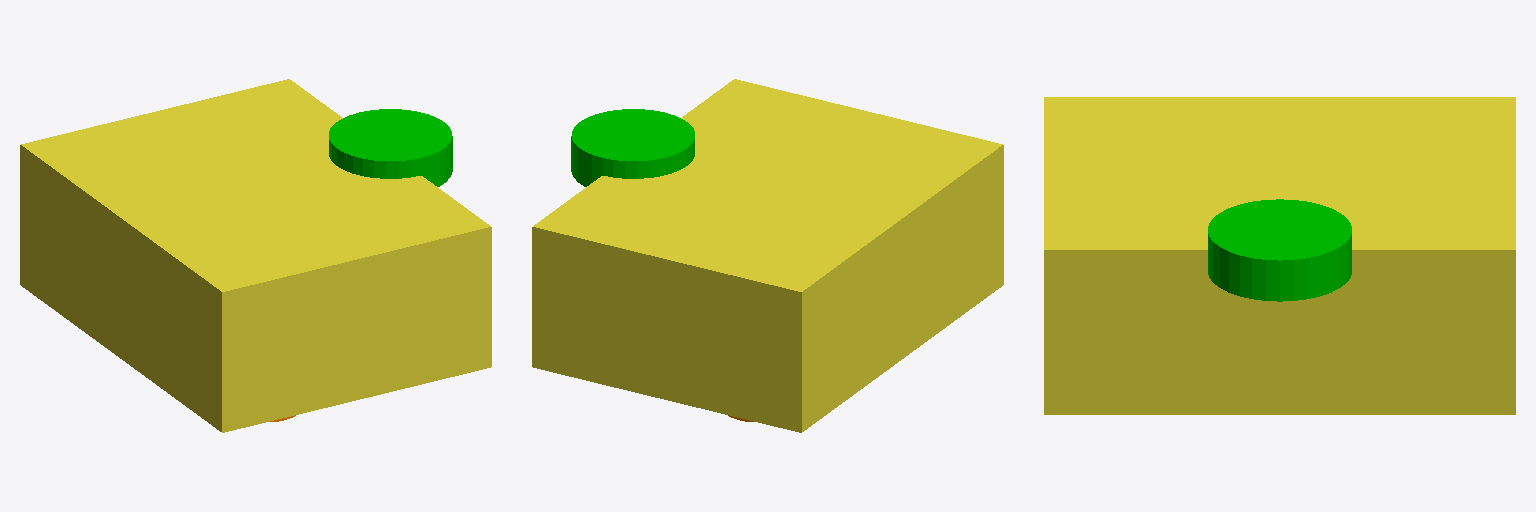
robot.urdf — box_robot:
<?xml version="1.0" ?>
<!-- =================================================================================== -->
<!-- |    This document was autogenerated by xacro from dashgobase.xacro               | -->
<!-- |    EDITING THIS FILE BY HAND IS NOT RECOMMENDED                                 | -->
<!-- =================================================================================== -->
<robot name="box_robot" xmlns:xacro="http://ros.org/wiki/xacro">
  <!--base_height/2+torso_height/2 -->
  <!-- Put all the color definitions in a separate file -->
  <material name="Black">
    <color rgba="0.2 0.2 0.2 1.0"/>
  </material>
  <material name="TransparentBlack">
    <color rgba="0.2 0.2 0.2 0.8"/>
  </material>
  <material name="Orange">
    <color rgba="1.0  0.55 0.0 1.0"/>
  </material>
  <material name="Grey">
    <color rgba="0.7 0.7 0.7 1.0"/>
  </material>
  <material name="DarkGrey">
    <color rgba="0.3 0.3 0.3 1.0"/>
  </material>
  <material name="Red">
    <color rgba="0.8 0.0 0.0 1.0"/>
  </material>
  <material name="White">
    <color rgba="1.0 1.0 1.0 1.0"/>
  </material>
  <material name="OffWhite">
    <color rgba="0.8 0.8 0.8 1.0"/>
  </material>
  <material name="Blue">
    <color rgba="0.0 0.0 0.8 1.0"/>
  </material>
  <material name="Green">
    <color rgba="0.0 0.8 0.0 1.0"/>
  </material>
  <material name="TransparentGreen">
    <color rgba="0.0 0.8 0.0 0.5"/>
  </material>
  <link name="base_footprint">
    <visual>
      <origin rpy="0 0 0" xyz="0 0 0"/>
      <geometry>
        <box size="0.05 0.05 0.001"/>
      </geometry>
      <material name="TransparentGreen"/>
    </visual>
  </link>
  <joint name="base_joint" type="fixed">
    <!--
    <origin xyz="0 0 0.04" rpy="0 0 0" />     
-->
    <origin rpy="0 0 0" xyz="0 0 0.138"/>
    <parent link="base_footprint"/>
    <child link="base_link"/>
  </joint>
  <joint name="base_l_wheel_joint" type="continuous">
    <axis xyz="0 0 1"/>
    <limit effort="100" velocity="100"/>
    <safety_controller k_velocity="10"/>
    <origin rpy="1.5707963 0 0" xyz="-0.095 0.21 -0.038"/>
    <parent link="base_link"/>
    <child link="base_l_wheel_link"/>
  </joint>
  <link name="base_l_wheel_link">
    <!--
 <visual>
<origin xyz=" 0 0 0 " rpy="0 0 0" />
      <geometry>
        <mesh
          filename="package://common/urdf/meshes/wheel.STL" />
      </geometry>
      <material name="${color}" />
</visual>
-->
    <visual>
      <origin rpy="0 0 0" xyz="0 0 0"/>
      <geometry>
        <cylinder length="0.046" radius="0.0801"/>
      </geometry>
      <material name="Orange"/>
    </visual>
  </link>
  <joint name="base_r_wheel_joint" type="continuous">
    <axis xyz="0 0 1"/>
    <limit effort="100" velocity="100"/>
    <safety_controller k_velocity="10"/>
    <origin rpy="-1.5707963 0 0" xyz="-0.095 -0.21 -0.038"/>
    <parent link="base_link"/>
    <child link="base_r_wheel_link"/>
  </joint>
  <link name="base_r_wheel_link">
    <!--
 <visual>
<origin xyz=" 0 0 0 " rpy="0 0 0" />
      <geometry>
        <mesh
          filename="package://common/urdf/meshes/wheel.STL" />
      </geometry>
      <material name="${color}" />
</visual>
-->
    <visual>
      <origin rpy="0 0 0" xyz="0 0 0"/>
      <geometry>
        <cylinder length="0.046" radius="0.0801"/>
      </geometry>
      <material name="Orange"/>
    </visual>
  </link>
  <link name="base_link">
    <!--
 <visual>
<origin xyz=" 0 0 0 " rpy="0 0 0" />
      <geometry>
        <mesh
          filename="package://common/urdf/meshes/dash_base_all.STL" />
      </geometry>
      <material name="">        
        <color
          rgba="255 215 0 0.5"/>
      </material>
</visual>
-->
    <visual>
      <origin rpy="0 0 0" xyz="0 0 0"/>
      <geometry>
        <box size="0.4 0.52 0.2"/>
      </geometry>
      <material name="iRobot/LightGrey"/>
    </visual>
    <collision>
      <origin rpy="0 0 0" xyz="0 0 0"/>
      <geometry>
        <box size="0.4 0.52 0.2"/>
      </geometry>
    </collision>
  </link>
  <!-- Attach the torso -->
  <!--
   <torso name="torso" parent="base" color="Grey">
      <origin xyz="${torso_offset_x} ${torso_offset_y} ${torso_offset_z}" rpy="0 0 0" />
   </torso>
-->
  <!--
 <joint name="laser" type="fixed">
    <origin xyz="0.15 0.00 0.20" rpy="0 0 0" />
    <parent link="base_link" />
    <child link="base_laser_link" />
  </joint>

  <link name="base_laser_link">
    <visual>
      <geometry>
        <box size="0.00 0.05 0.06" />
      </geometry>
      <material name="Green" />
    </visual>
    <inertial>
      <mass value="0.000001" />
      <origin xyz="0 0 0" />
      <inertia ixx="0.0001" ixy="0.0" ixz="0.0"
        iyy="0.0001" iyz="0.0"
        izz="0.0001" />
    </inertial>
  </link>
-->
  <link name="front_flag">
    <visual>
      <origin rpy="0 0 0" xyz="0 0 0"/>
      <geometry>
        <!--
          <box size="0.08 0.08 0.001" />
-->
        <cylinder length="0.05" radius="0.08"/>
      </geometry>
      <material name="TransparentGreen"/>
    </visual>
  </link>
  <joint name="front_point_flag" type="fixed">
    <origin rpy="0 0 0" xyz="0.2 0 0.1"/>
    <parent link="base_link"/>
    <child link="front_flag"/>
  </joint>
</robot>

--- What the picture shows (computed from the rendered views, not written in the file) ---
Views: 3 orthographic renders of the robot side by side, from view 1: azimuth 30°, elevation 25°; view 2: azimuth 150°, elevation 25°; view 3: azimuth 270°, elevation 25°.
Robot: box_robot — 5 links, 4 joints (2 continuous, 2 fixed); root link base_footprint; default pose: all joints at 0.
Links seen in each view (by area): view 1: base_link, front_flag; view 2: base_link, front_flag; view 3: base_link, front_flag.
Boxes of the visible links, box(x1,y1,x2,y2) form: base_link: box(20, 79, 491, 432); front_flag: box(329, 109, 452, 186); base_link: box(532, 79, 1003, 432); front_flag: box(571, 109, 694, 186); base_link: box(1044, 97, 1515, 414); front_flag: box(1208, 199, 1351, 301).
Bounding box of the posed robot: 0.48 × 0.52 × 0.2635 m (x, y, z).
Geometry: primitives only (box / cylinder / sphere), no mesh files.
